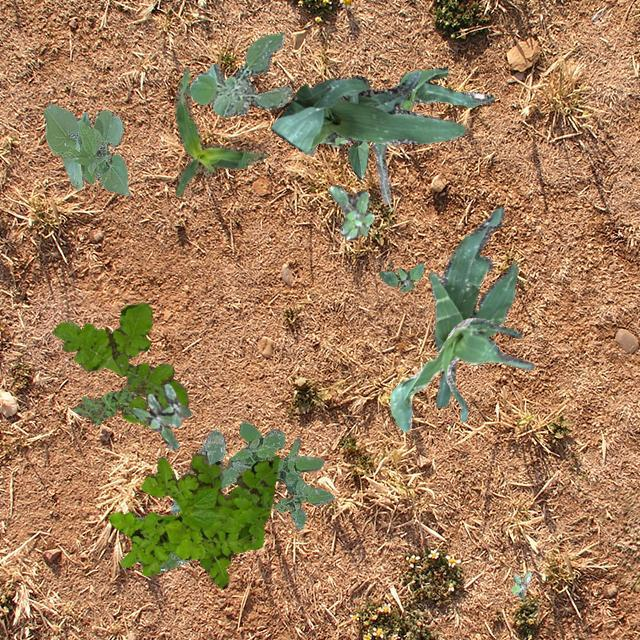crop: (428, 206, 516, 406), (371, 66, 494, 202), (388, 316, 532, 431), (270, 70, 464, 150), (174, 68, 266, 196), (42, 104, 128, 194), (347, 140, 368, 178)
weed: (108, 452, 278, 588), (51, 302, 188, 424), (230, 421, 334, 528), (190, 32, 292, 116), (170, 428, 248, 512), (130, 384, 190, 448), (136, 516, 190, 572), (328, 184, 372, 238), (72, 386, 134, 424), (378, 262, 422, 292), (304, 136, 349, 154), (510, 570, 530, 598)
